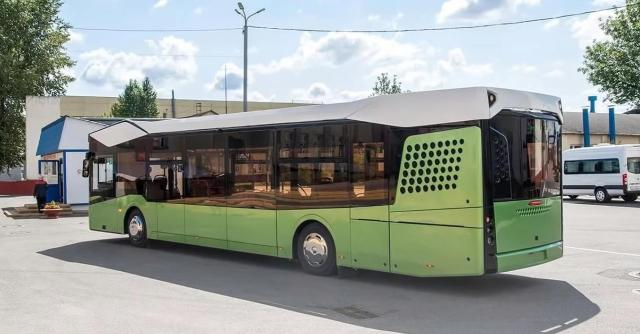bus: (76, 80, 566, 290)
car: (559, 141, 639, 203)
